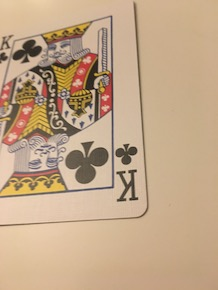KingOfClubs: (1, 2, 151, 228)
